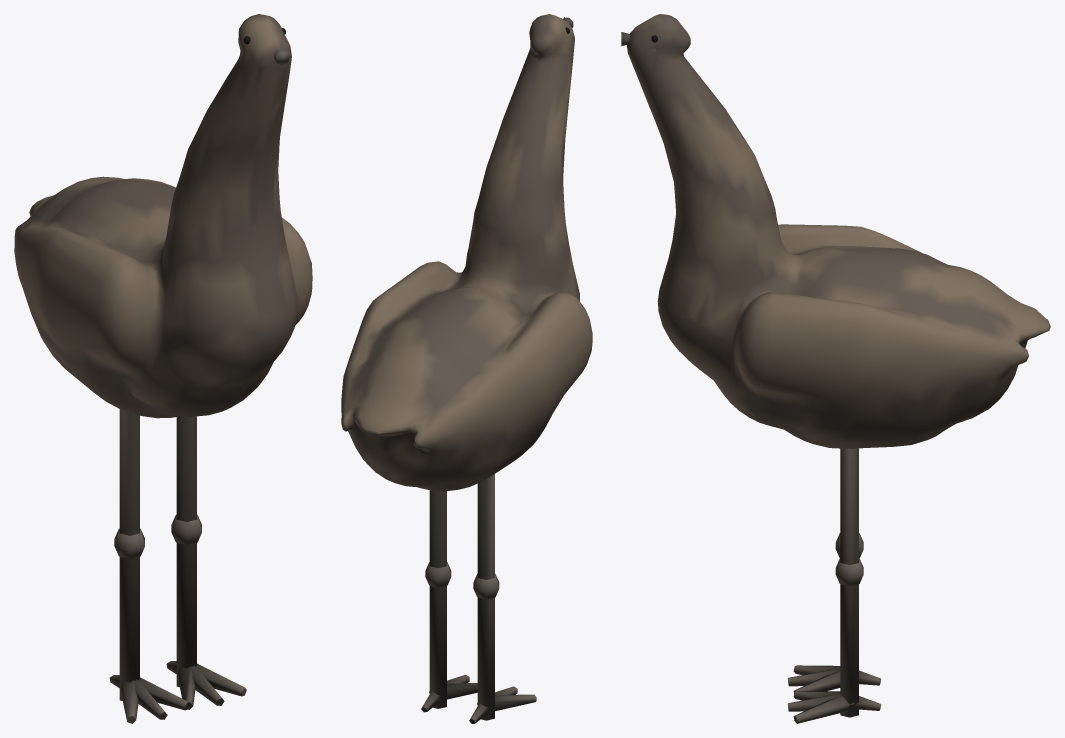
The model's file is emu.glb.
3 renders of one model, left to right at view 1: azimuth 30°, elevation 25°; view 2: azimuth 150°, elevation 25°; view 3: azimuth 270°, elevation 25°, orthographic. The views are drawn at different scales.
Visible parts, largest first — view 1: lack; view 2: lack; view 3: lack.
Boxes of the visible parts, left/top/right/bottom form: lack: left=14, top=14, right=312, bottom=723; lack: left=341, top=14, right=592, bottom=723; lack: left=621, top=14, right=1050, bottom=723.
Size of the model in its own units: 0.5969 by 1.92 by 1.09.
